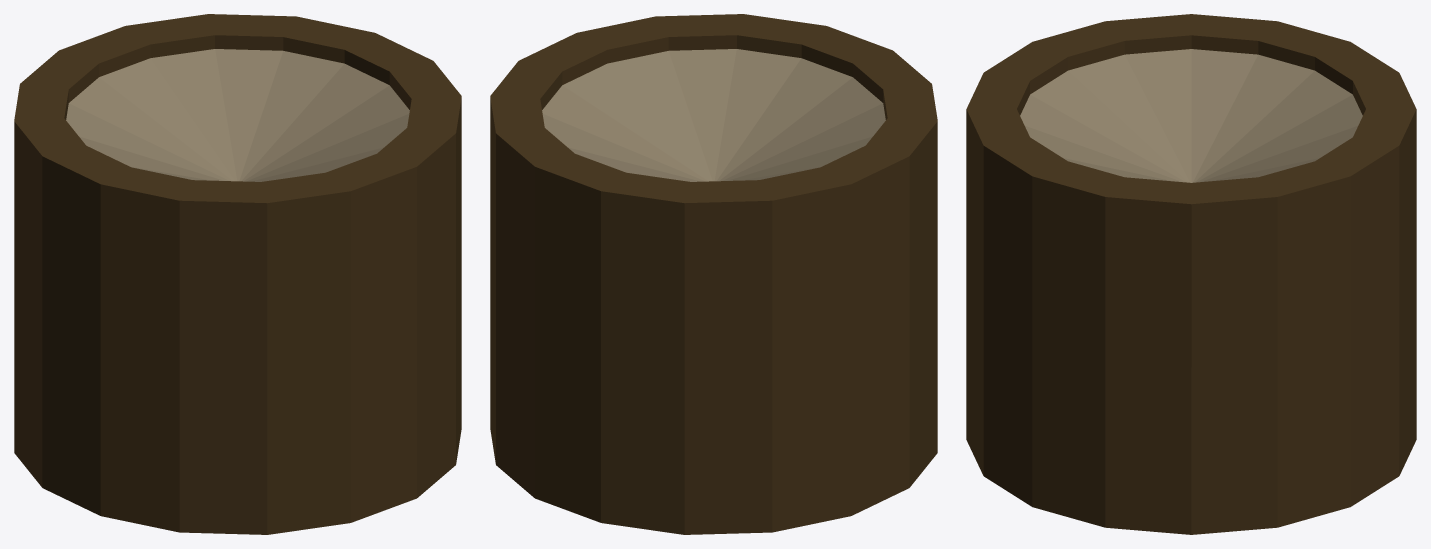
Rendered from leña-cortada3_lowpoly.fbx.
The picture shows the model from 3 angles, left to right: view 1: azimuth 30°, elevation 25°; view 2: azimuth 150°, elevation 25°; view 3: azimuth 270°, elevation 25°; orthographic projection.
Parts seen in each view (by area): view 1: Cylinder.038; view 2: Cylinder.038; view 3: Cylinder.038.
Boxes of the visible parts, bbox=[...] form: Cylinder.038: bbox=[14, 14, 461, 534]; Cylinder.038: bbox=[490, 14, 937, 534]; Cylinder.038: bbox=[966, 14, 1416, 534].
Bounding box in the file's own units: 200 × 162 × 200.
